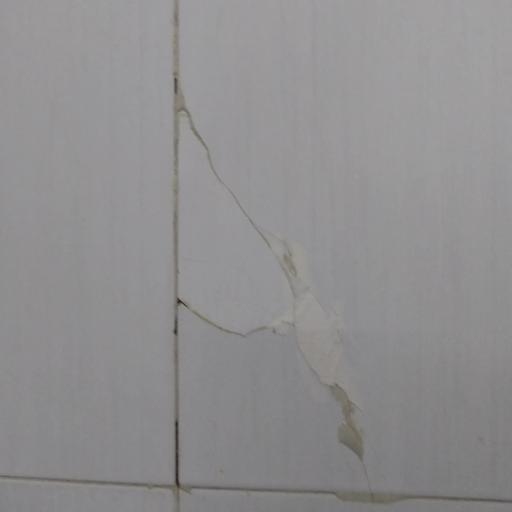minor_crack: (152, 84, 388, 499)
